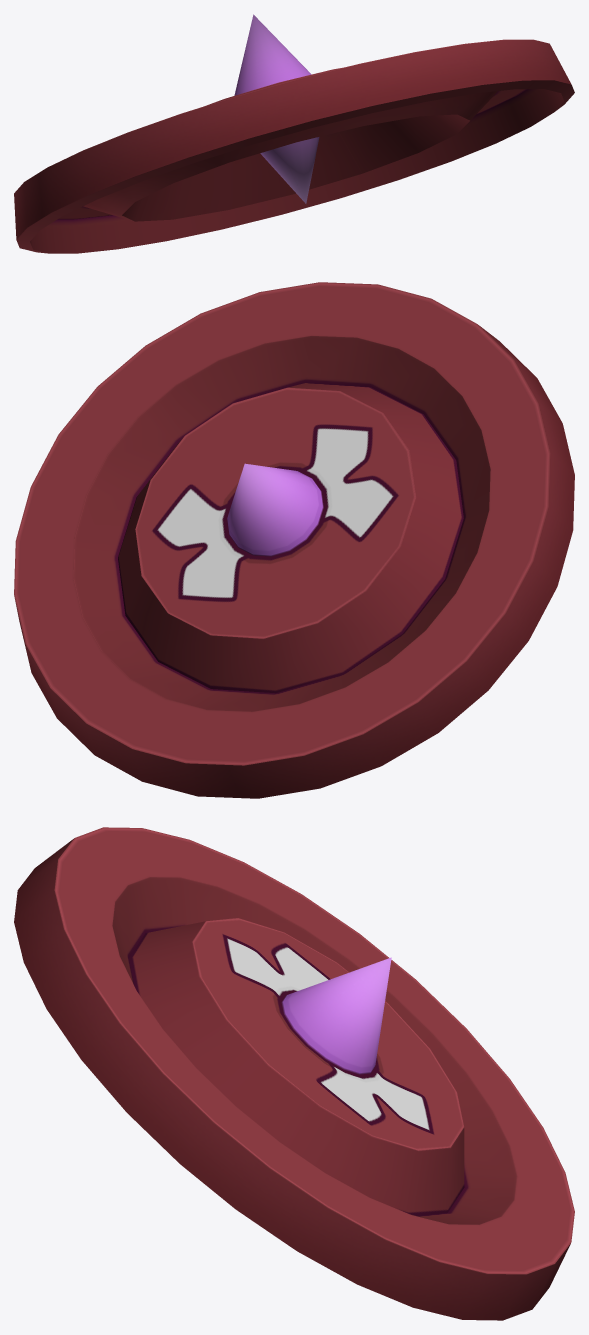
File: Dog Disc.glb
3 views of the same model, one above another, from view 1: azimuth 30°, elevation 25°; view 2: azimuth 150°, elevation 25°; view 3: azimuth 270°, elevation 25° (orthographic). The views are drawn at different scales.
Parts seen in each view (by area): view 1: SkillObj_Alyosha_DogDisc_LOD0; view 2: SkillObj_Alyosha_DogDisc_LOD0; view 3: SkillObj_Alyosha_DogDisc_LOD0.
Boxes of the visible parts, box(x1,y1,x2,y2) form: SkillObj_Alyosha_DogDisc_LOD0: box(14, 14, 574, 253); SkillObj_Alyosha_DogDisc_LOD0: box(14, 282, 574, 798); SkillObj_Alyosha_DogDisc_LOD0: box(14, 827, 574, 1320).
Size of the model in its own units: 0.3701 by 0.238 by 0.3118.
1 material, 1 textured.
